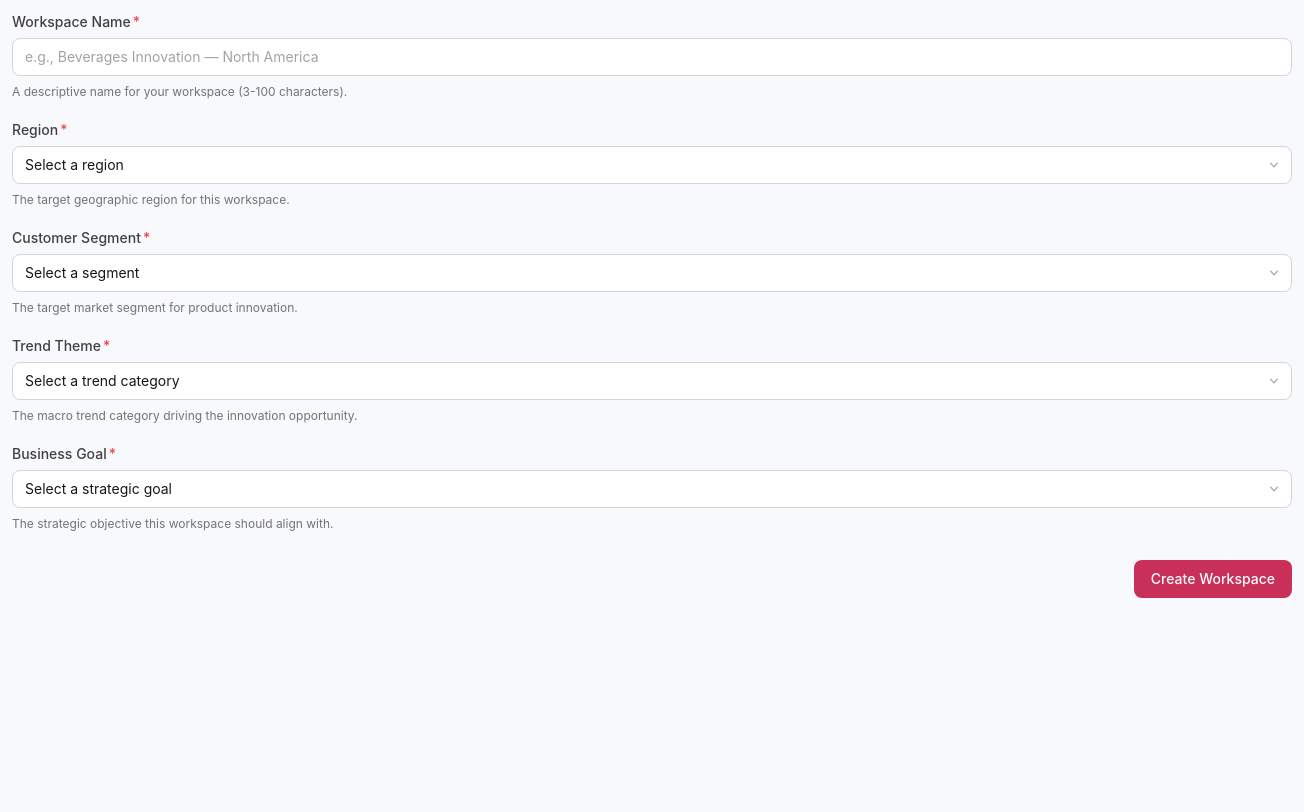
Test: WorkspaceForm › field validation › shows error when region is not selected on blur
The width and height of the screenshot is (1304, 812).
Click the dropdown labelled "Region*" at (652, 165), box [12, 146, 1292, 184]
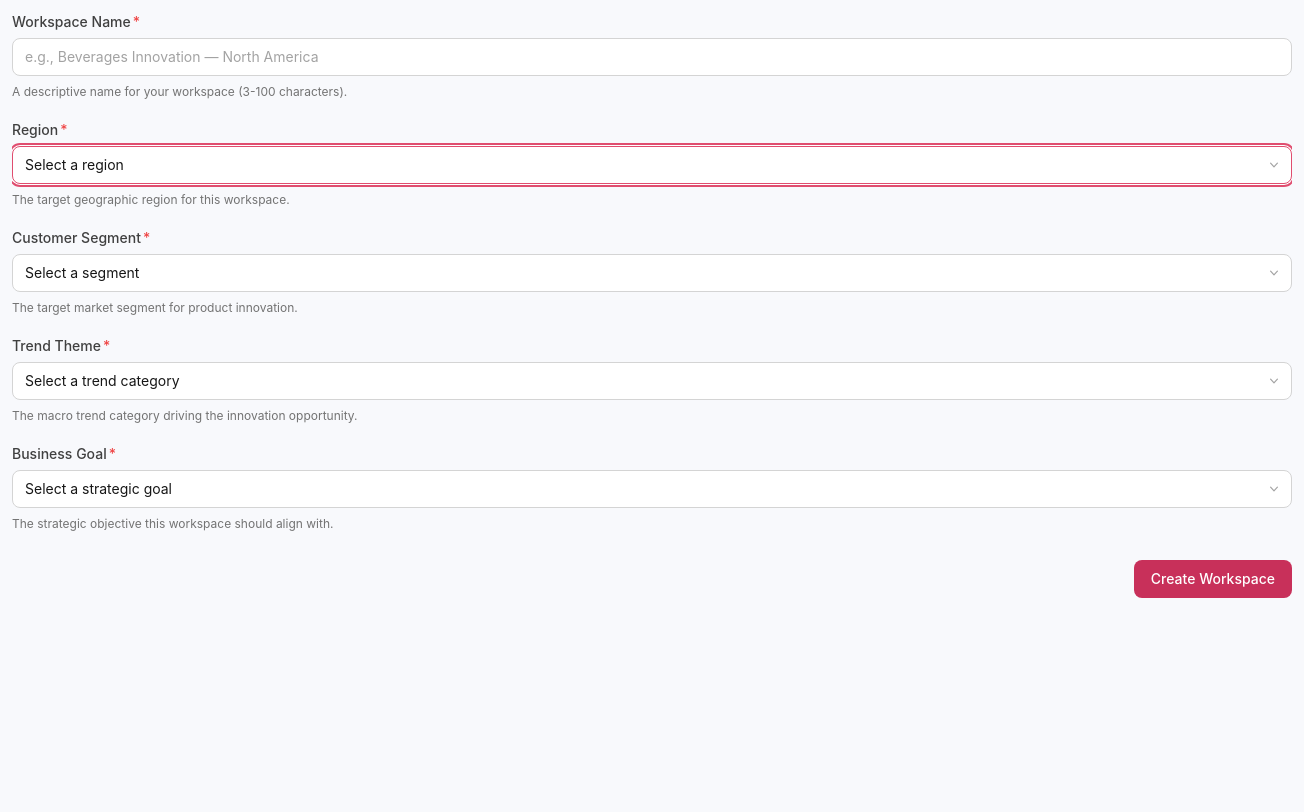
Press Tab
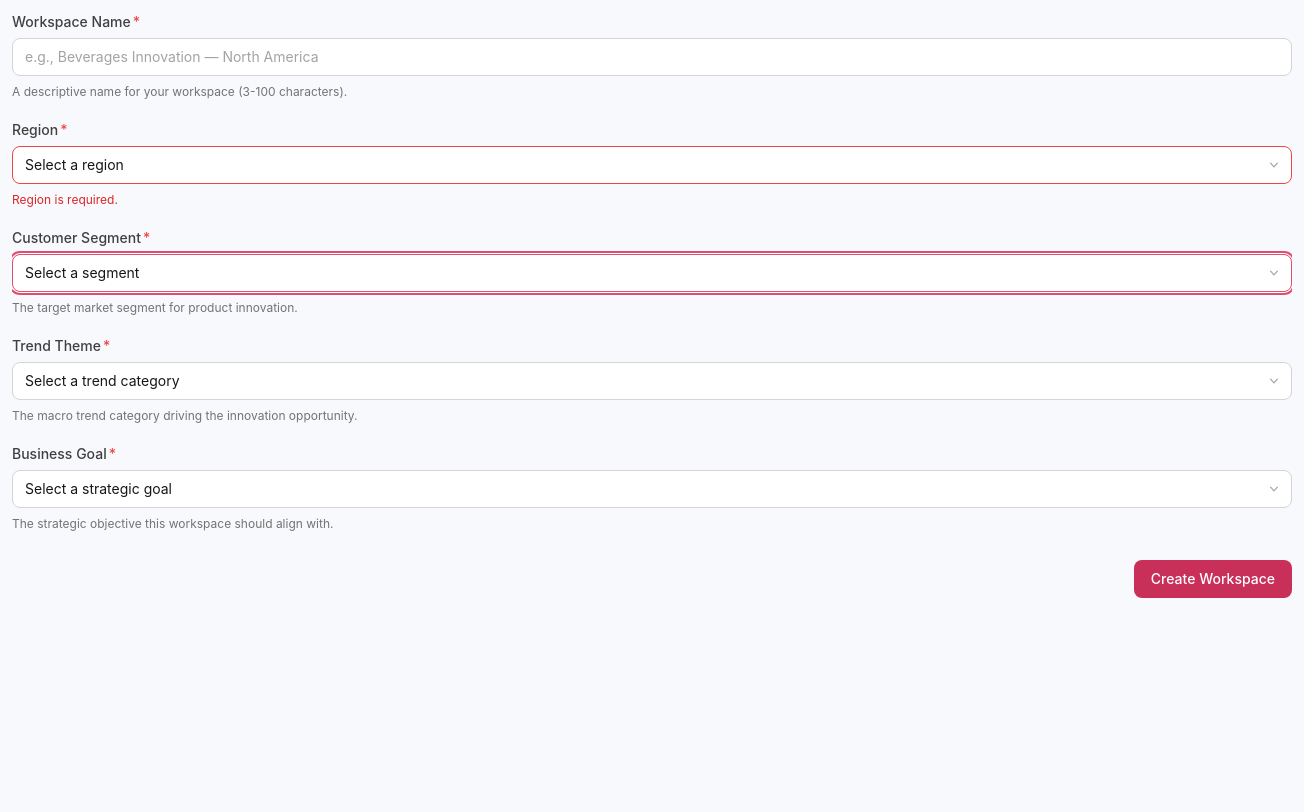
Now the text "Region is required." is shown, box [12, 192, 118, 207]
